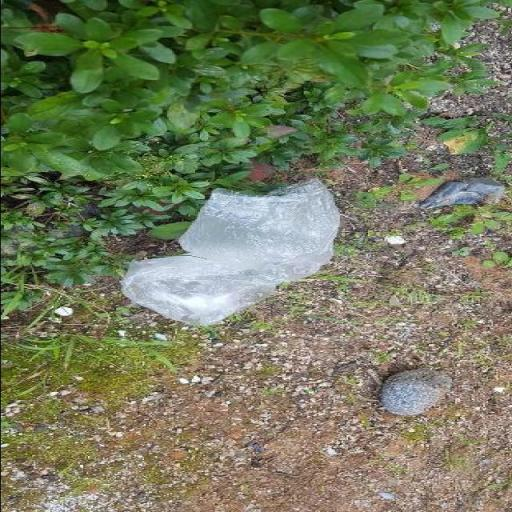plastic-bag: (112, 177, 338, 324)
